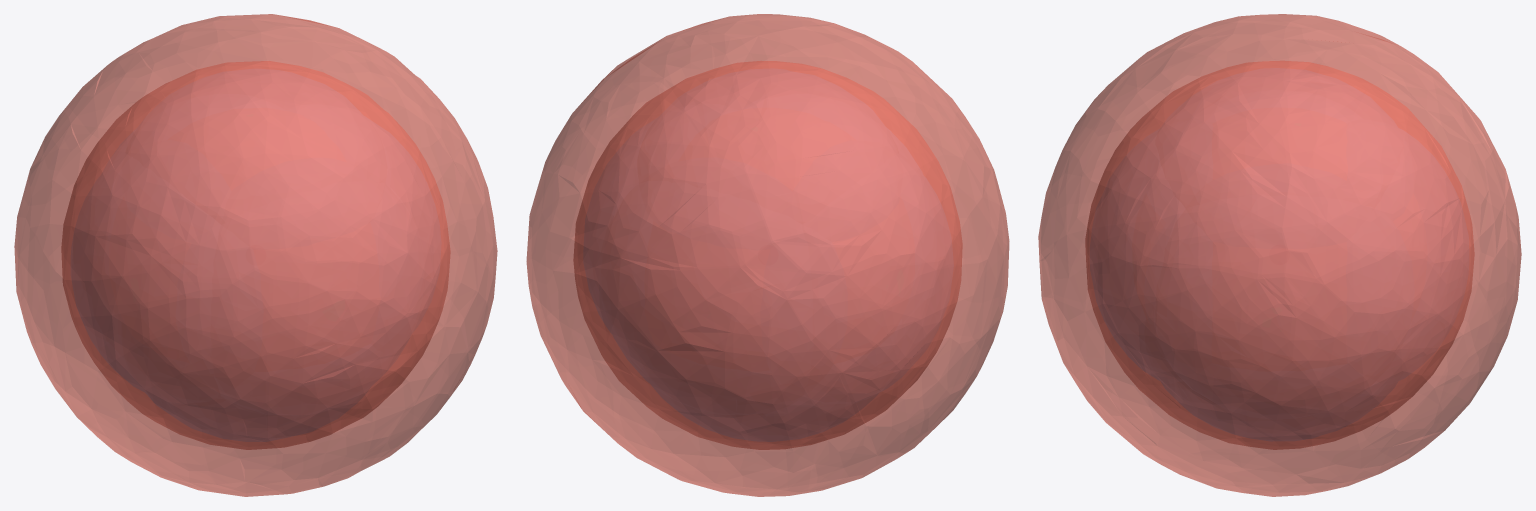
The model's file is orbital.glb.
3 renders of one model, left to right at view 1: azimuth 30°, elevation 25°; view 2: azimuth 150°, elevation 25°; view 3: azimuth 270°, elevation 25°, orthographic.
Parts seen in each view (by area): view 1: Rb_n5_s_ml0_node, Rb_n4_s_ml0_node; view 2: Rb_n5_s_ml0_node, Rb_n4_s_ml0_node; view 3: Rb_n5_s_ml0_node, Rb_n4_s_ml0_node.
Part boxes in pixels (x1,y1,x2,y2): Rb_n5_s_ml0_node: [14, 14, 497, 496]; Rb_n4_s_ml0_node: [61, 61, 450, 449]; Rb_n5_s_ml0_node: [526, 14, 1009, 496]; Rb_n4_s_ml0_node: [573, 61, 962, 449]; Rb_n5_s_ml0_node: [1038, 14, 1521, 496]; Rb_n4_s_ml0_node: [1085, 61, 1474, 449].
Bounding box in the file's own units: 2.56 × 2.56 × 2.56.
